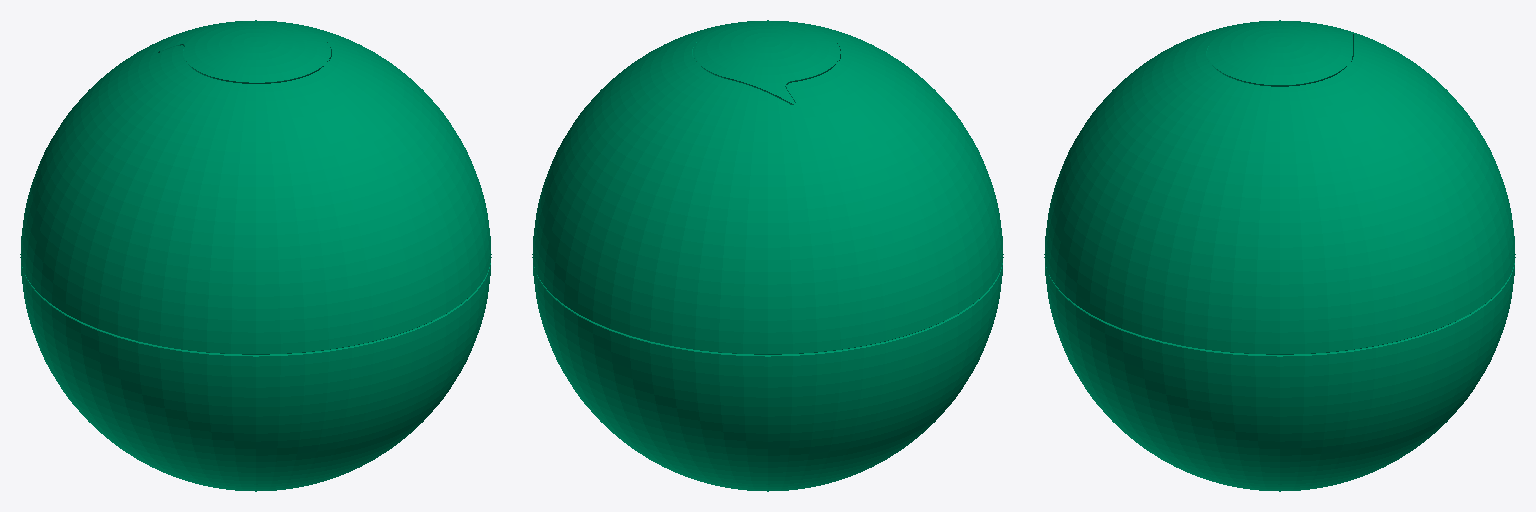
The robot description file, URDF, robot "sphero":
<?xml version="1.0" encoding="utf-8"?>
<robot name="sphero">

  <link name="base_link">
    <inertial>
      <!--<origin rpy="0 0 0" xyz="0.0 0.0 -0.005" />-->
      <origin rpy="0 0 0" xyz="0.0 0.0 0.0" />
      <mass value="0.5" />
      <inertia ixx="1.0" ixy="0.0" ixz="0.0"
        iyy="1.0" iyz="0.0"
        izz="1.0"/>
    </inertial>
    <collision>
      <origin rpy="0 0 0" xyz="0 0 0.0" />
      <geometry>
        <sphere radius="0.01"/>
      </geometry>
    </collision>
    <visual>
      <origin rpy="0 0 0" xyz="0 0 0.0" />
      <geometry>
        <sphere radius="0.01"/>
      </geometry>
      <material name="orange">
        <color rgba="0 0 .8 1"/>
      </material>    
    </visual>
  </link>
  
  
  <link name="base_rotation_link">
    <inertial>
      <origin rpy="0 0 0" xyz="0.0 0.0 0." />
      <mass value="0.05" />
      <inertia ixx="0.0029" ixy="0.0" ixz="0.0" iyy="0.0029" iyz="0.0" izz="0.0029" />
    </inertial>
    <collision>
      <origin rpy="0 0 0" xyz="0 0 0.0" />
      <geometry>
	    <sphere radius="0.01"/>
      </geometry>
    </collision>
    <visual>
      <origin rpy="0 0 0" xyz="0 0 0.0" />
      <geometry>
        <sphere radius="0.01"/>
      </geometry>
      <material name="blue">
        <color rgba="0 0 .8 1"/>
      </material>    
    </visual>
  </link>


  <joint name="rotation_joint" type="revolute">
    <origin rpy="0 0 0" xyz="0.0 0.0 0.0" />
    <parent link="base_link" />
    <child link="base_rotation_link" />
    <axis xyz="0 0 1" />
    <limit effort="18.85" lower="-1e+16" upper="1e+16" velocity="0.2" />
  </joint>

  <link name="base_direction_link">
    <inertial>
      <origin rpy="0 0 0" xyz="0.0 0.0 0.0" />
      <mass value="0.05" />
      <inertia ixx="0.00029" ixy="0.0" ixz="0.0" iyy="0.00029" iyz="0.0" izz="0.00029" />
    </inertial>
    <collision>
      <origin rpy="0 0 0" xyz="0 0.0 0.0" />
      <geometry>
        <sphere radius="0.0381"/>
      </geometry>
    </collision>
    <visual>
      <origin rpy="0 0 0" xyz="0 0.0 0.0" />
      <geometry>
        <mesh filename="package://sphero_description/meshes/Sphero_Textured.dae" scale="1.3 1.3 1.3"/>
      </geometry>
    </visual>
  </link>

  <joint name="direction_joint" type="continuous">
    <origin rpy="0 0 0" xyz="0.0 0.0 0.0" />
    <parent link="base_rotation_link" />
    <child link="base_direction_link" />
    <axis xyz="1 0 0" />
    <limit effort="18.85" velocity="0.2" />
  </joint>


</robot>

--- Facts derived from the render (not from the file) ---
3 views of the same robot in one strip: view 1: azimuth 30°, elevation 25°; view 2: azimuth 150°, elevation 25°; view 3: azimuth 270°, elevation 25° (orthographic).
Model sphero with 3 links and 2 joints (1 revolute, 1 continuous), rooted at base_link, posed every joint at zero.
Visible links, largest first — view 1: base_direction_link; view 2: base_direction_link; view 3: base_direction_link.
Link boxes in pixels (x1,y1,x2,y2): base_direction_link: (20,20,491,491); base_direction_link: (532,20,1003,491); base_direction_link: (1044,20,1515,491).
Size in the robot's own frame: 0.078 by 0.078 by 0.0781 metres.
1 mesh visuals loaded from 1 distinct referenced files (1 Collada DAE).